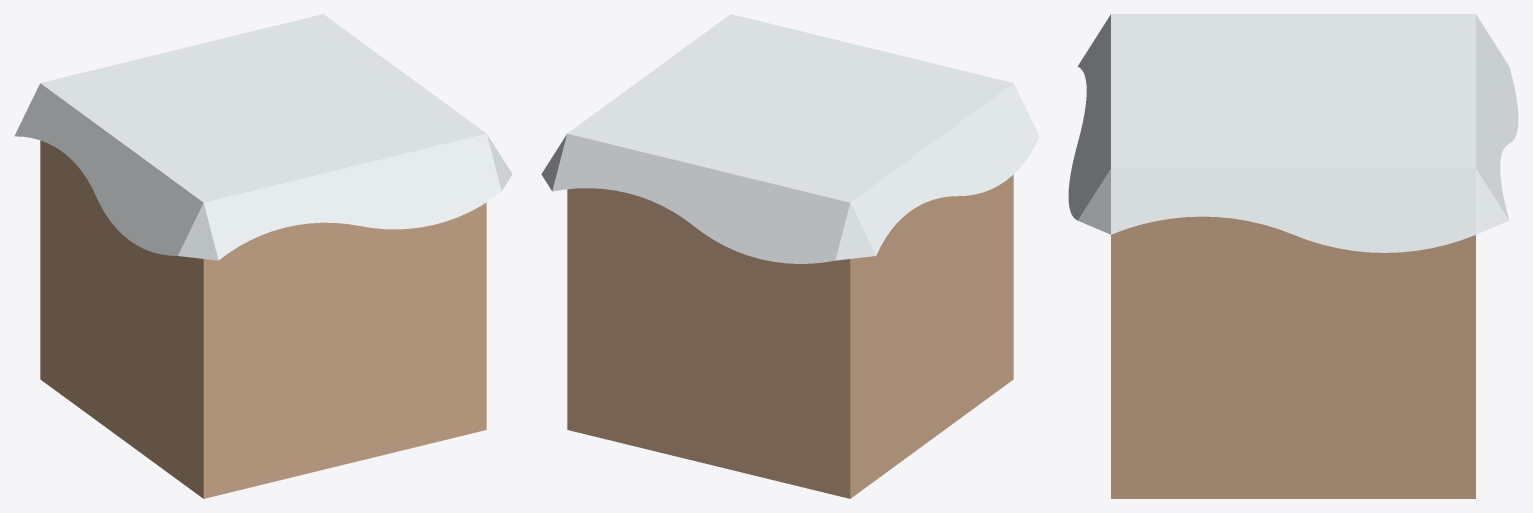
3 renders of one model, left to right at view 1: azimuth 30°, elevation 25°; view 2: azimuth 150°, elevation 25°; view 3: azimuth 270°, elevation 25°, orthographic. The views are drawn at different scales.
Parts seen in each view (by area): view 1: blockSnow; view 2: blockSnow; view 3: blockSnow.
Boxes of the visible parts, x1,y1,x2,y2 form: blockSnow: (14,14,512,498); blockSnow: (541,14,1039,498); blockSnow: (1068,14,1518,498).
Bounding box in the file's own units: 1.23 × 1 × 1.23.
